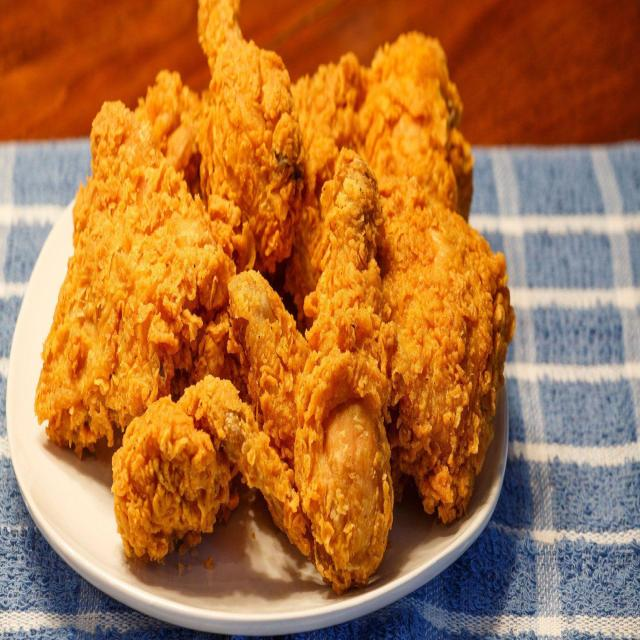Frango: (29, 61, 241, 471), (98, 329, 319, 598), (286, 148, 408, 608), (381, 156, 526, 531), (178, 8, 322, 278)
